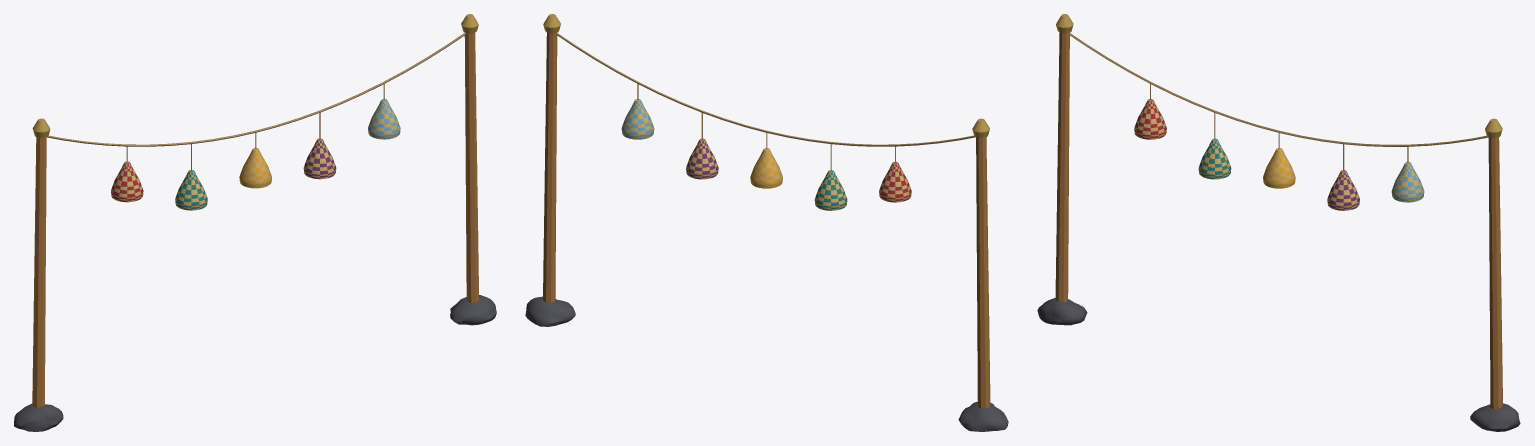
File: deco_pod_light_string.fbx
3 views of the same model, side by side, from view 1: azimuth 30°, elevation 25°; view 2: azimuth 150°, elevation 25°; view 3: azimuth 330°, elevation 25° (orthographic).
Visible parts, largest first — view 1: PodLight_String_PoleL, PodLight_String_PoleR, PodLight_String_Line, PodLight_String_FootL, PodLight_String_FootR, PodLight_String_Pod2, PodLight_String_Pod1, PodLight_String_Pod3, PodLight_String_Pod5, PodLight_String_Pod4; view 2: PodLight_String_PoleL, PodLight_String_PoleR, PodLight_String_Line, PodLight_String_FootR, PodLight_String_FootL, PodLight_String_Pod5, PodLight_String_Pod1, PodLight_String_Pod2, PodLight_String_Pod4, PodLight_String_Pod3; view 3: PodLight_String_PoleR, PodLight_String_PoleL, PodLight_String_Line, PodLight_String_FootR, PodLight_String_FootL, PodLight_String_Pod2, PodLight_String_Pod1, PodLight_String_Pod5, PodLight_String_Pod3, PodLight_String_Pod4.
Boxes of the visible parts, bbox=[...] form: PodLight_String_PoleL: bbox=[32, 118, 50, 407]; PodLight_String_PoleR: bbox=[461, 14, 479, 303]; PodLight_String_Line: bbox=[47, 32, 465, 146]; PodLight_String_FootL: bbox=[14, 403, 63, 431]; PodLight_String_FootR: bbox=[450, 295, 496, 325]; PodLight_String_Pod2: bbox=[175, 170, 207, 210]; PodLight_String_Pod1: bbox=[111, 161, 143, 202]; PodLight_String_Pod3: bbox=[239, 147, 271, 188]; PodLight_String_Pod5: bbox=[368, 99, 400, 139]; PodLight_String_Pod4: bbox=[303, 138, 336, 179]; PodLight_String_PoleL: bbox=[972, 118, 990, 408]; PodLight_String_PoleR: bbox=[543, 14, 560, 302]; PodLight_String_Line: bbox=[556, 33, 975, 146]; PodLight_String_FootR: bbox=[525, 296, 575, 326]; PodLight_String_FootL: bbox=[958, 401, 1008, 431]; PodLight_String_Pod5: bbox=[621, 99, 654, 139]; PodLight_String_Pod1: bbox=[879, 161, 911, 202]; PodLight_String_Pod2: bbox=[814, 170, 847, 210]; PodLight_String_Pod4: bbox=[686, 138, 718, 179]; PodLight_String_Pod3: bbox=[750, 148, 782, 188]; PodLight_String_PoleR: bbox=[1485, 118, 1502, 409]; PodLight_String_PoleL: bbox=[1055, 14, 1073, 301]; PodLight_String_Line: bbox=[1068, 32, 1488, 146]; PodLight_String_FootR: bbox=[1470, 403, 1520, 431]; PodLight_String_FootL: bbox=[1037, 298, 1087, 325]; PodLight_String_Pod2: bbox=[1198, 138, 1231, 179]; PodLight_String_Pod1: bbox=[1134, 99, 1166, 139]; PodLight_String_Pod5: bbox=[1391, 162, 1424, 202]; PodLight_String_Pod3: bbox=[1263, 148, 1295, 188]; PodLight_String_Pod4: bbox=[1327, 170, 1359, 210].
Size of the model in its own units: 462 by 280 by 38.74.
